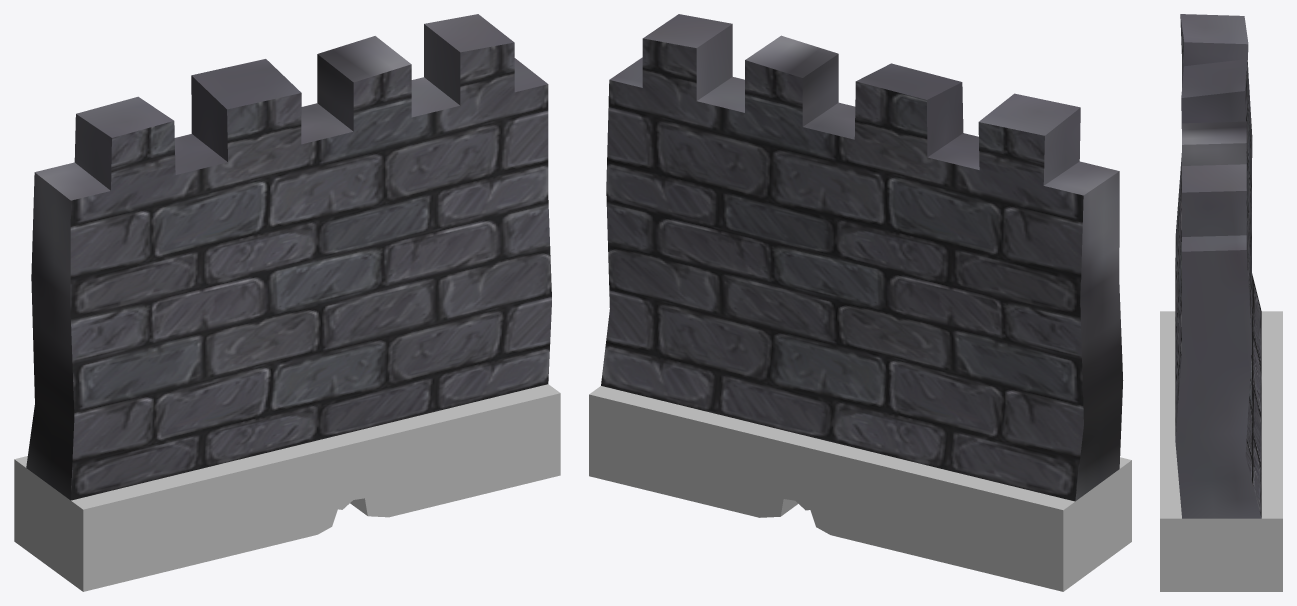
Rendered from e_castle_ext_guard_crack.fbx.
The picture shows the model from 3 angles, left to right: view 1: azimuth 30°, elevation 25°; view 2: azimuth 150°, elevation 25°; view 3: azimuth 270°, elevation 25°; orthographic projection. The views are drawn at different scales.
Parts seen in each view (by area): view 1: e_castle_ext_guard_crack; view 2: e_castle_ext_guard_crack; view 3: e_castle_ext_guard_crack.
Boxes of the visible parts, bbox=[...] form: e_castle_ext_guard_crack: bbox=[14, 14, 560, 591]; e_castle_ext_guard_crack: bbox=[589, 14, 1131, 591]; e_castle_ext_guard_crack: bbox=[1160, 14, 1282, 591].
Bounding box in the file's own units: 6 × 5.31 × 1.5.
